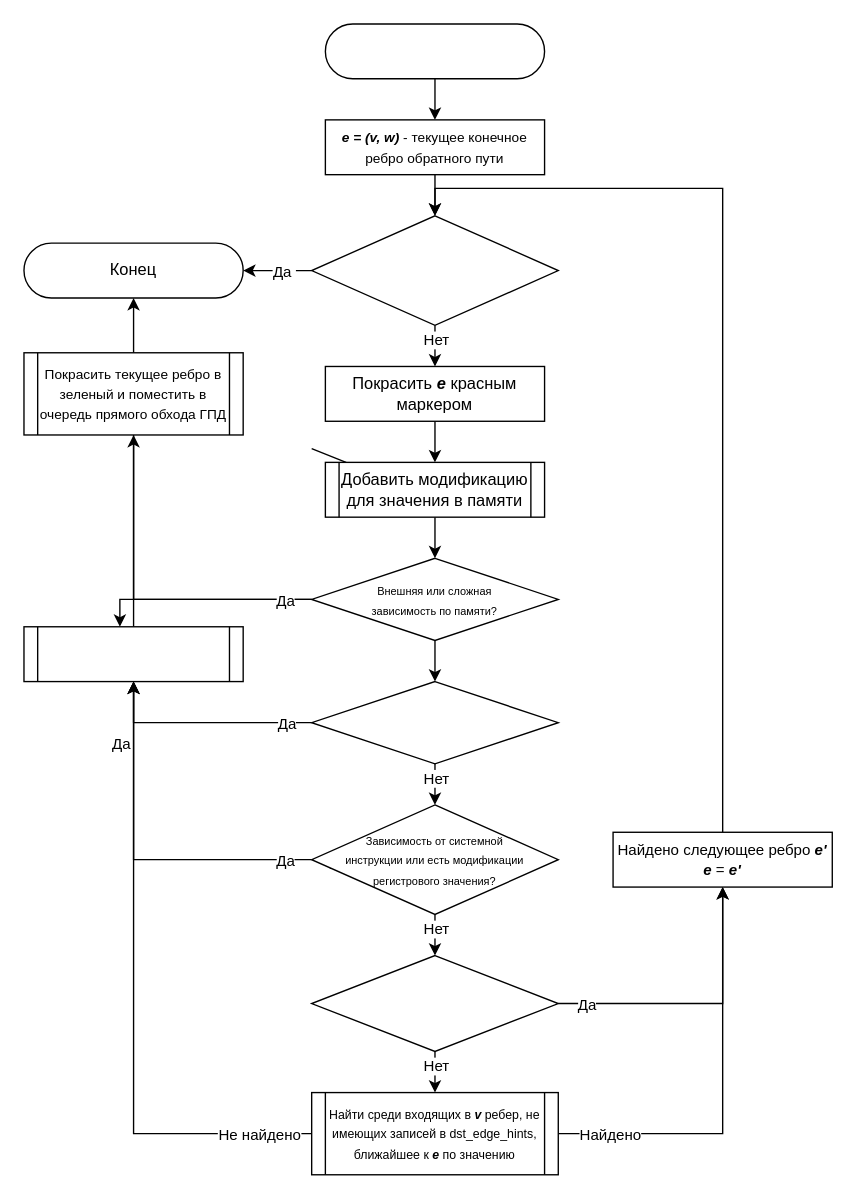
The diagram is 856 pixels wide and 1199 high, and some of its shapes have lost their labels. The centre of each missing label's shape, as x and y in pixels:
"e окрашено красным маркером?" goes at point (434, 269).
"В src_edge_hints есть запись, отвечающая e ?" goes at point (434, 1002).
"Добавить модификацию для значения на регистре" goes at point (133, 653).
"Зависимость от начального состояния?" goes at point (434, 722).
"Начало" goes at point (434, 51).
